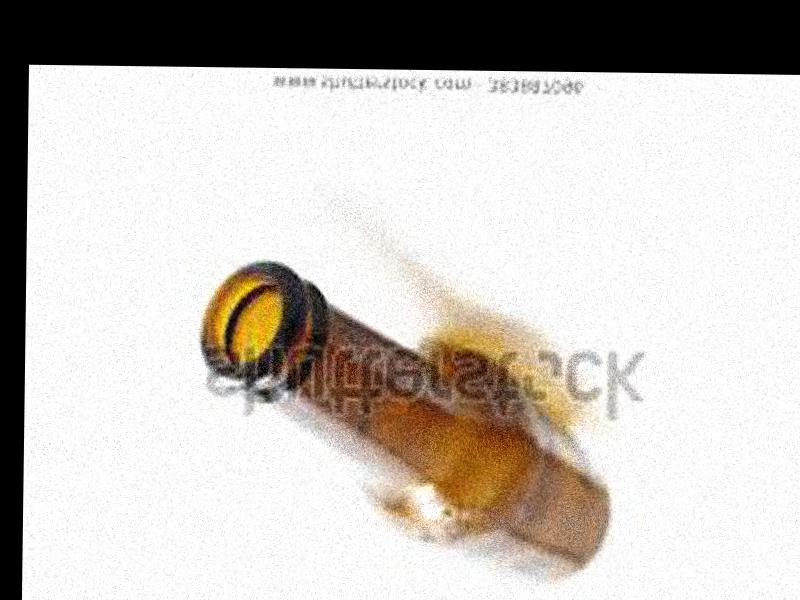Beer: (195, 258, 614, 582)
